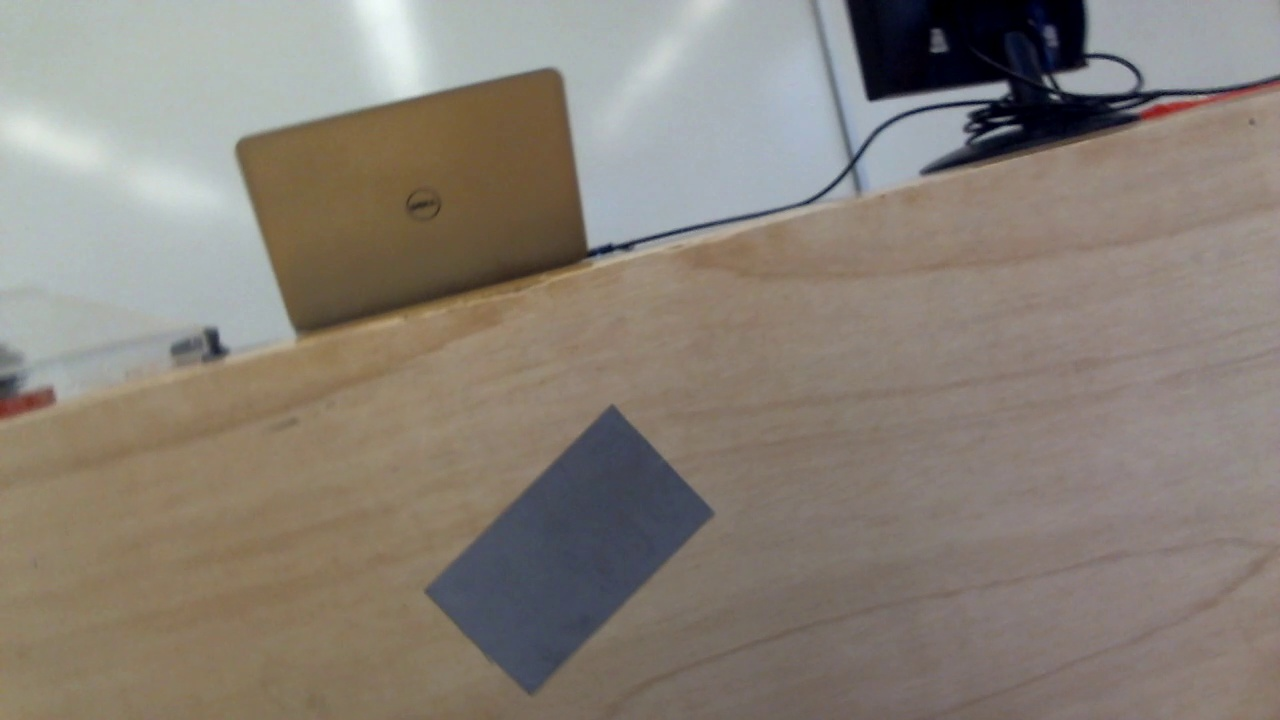Tape: (423, 405, 715, 696)
